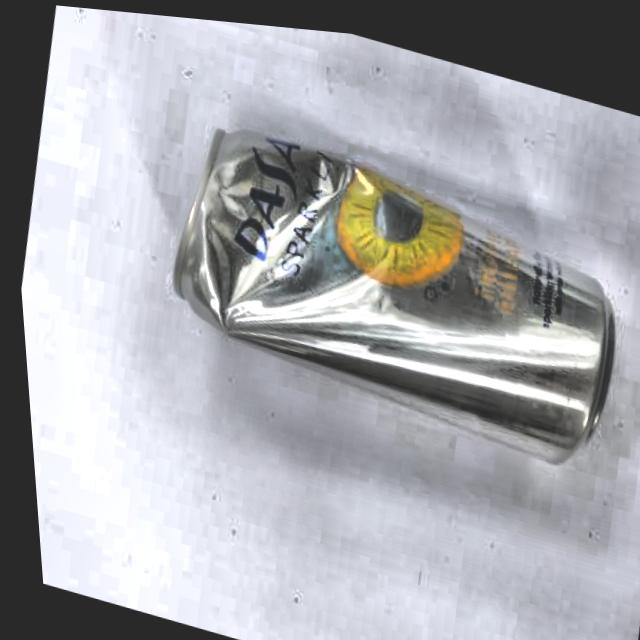Cans: (116, 76, 640, 493)
